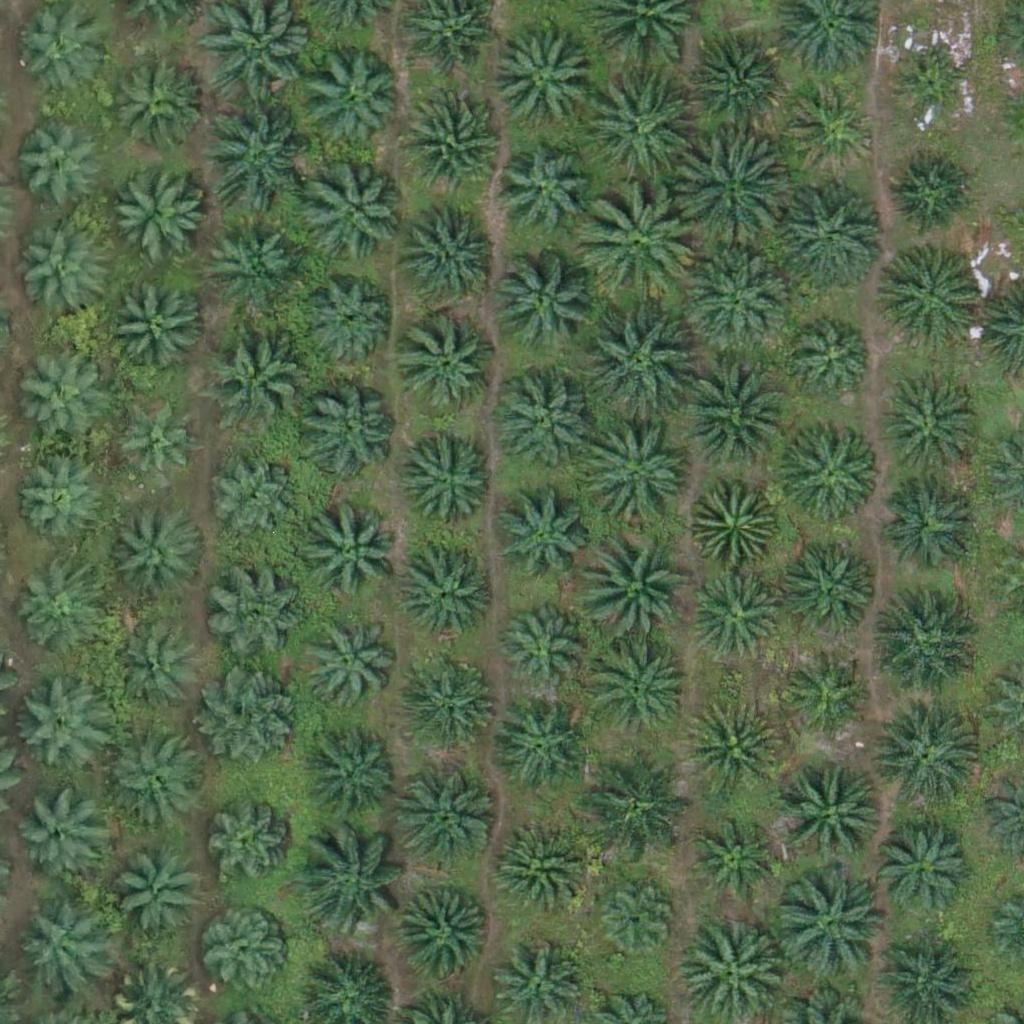Kelapa_Sawit: (579, 73, 692, 187), (773, 873, 886, 986), (299, 829, 412, 942), (584, 745, 697, 858), (584, 420, 697, 533), (583, 304, 696, 417), (684, 241, 796, 355), (779, 758, 891, 872), (197, 100, 309, 213), (583, 634, 695, 747), (578, 524, 690, 637), (581, 187, 693, 300), (671, 135, 783, 248), (676, 356, 788, 469), (774, 176, 886, 289), (865, 587, 977, 700), (866, 701, 978, 814), (873, 823, 973, 924), (487, 819, 587, 920), (11, 345, 111, 446), (105, 728, 205, 829), (106, 279, 206, 380), (108, 160, 208, 261), (104, 51, 204, 152), (203, 212, 303, 313), (206, 323, 306, 424), (205, 561, 305, 662), (203, 665, 303, 766), (300, 46, 400, 147), (306, 500, 406, 601), (299, 615, 399, 716), (303, 724, 403, 825), (397, 767, 497, 868), (396, 543, 496, 644), (398, 314, 498, 415), (399, 90, 499, 191), (496, 141, 596, 242), (494, 251, 594, 352), (489, 487, 589, 588), (492, 699, 592, 800), (682, 698, 782, 799), (781, 542, 881, 643), (780, 418, 880, 519), (882, 382, 982, 483), (880, 473, 980, 574), (394, 886, 494, 986), (12, 671, 112, 771), (305, 165, 405, 265), (296, 382, 396, 482), (404, 654, 504, 754), (399, 430, 499, 530), (406, 201, 506, 301), (490, 32, 590, 132), (493, 369, 593, 469), (686, 36, 786, 136), (879, 244, 979, 344), (595, 876, 683, 964), (14, 790, 102, 878), (15, 906, 103, 994), (16, 121, 104, 209), (16, 228, 104, 316), (13, 461, 101, 549), (115, 505, 203, 593), (210, 455, 298, 543), (693, 568, 781, 656), (689, 819, 777, 907), (787, 643, 875, 731), (109, 398, 196, 487), (205, 804, 292, 892), (202, 913, 289, 1001), (111, 850, 198, 938), (788, 84, 875, 172), (12, 568, 99, 656), (110, 626, 197, 714), (305, 276, 392, 364), (499, 601, 586, 689), (691, 476, 778, 564), (792, 318, 879, 406), (887, 148, 974, 236), (9, 10, 96, 98), (897, 54, 972, 129)
